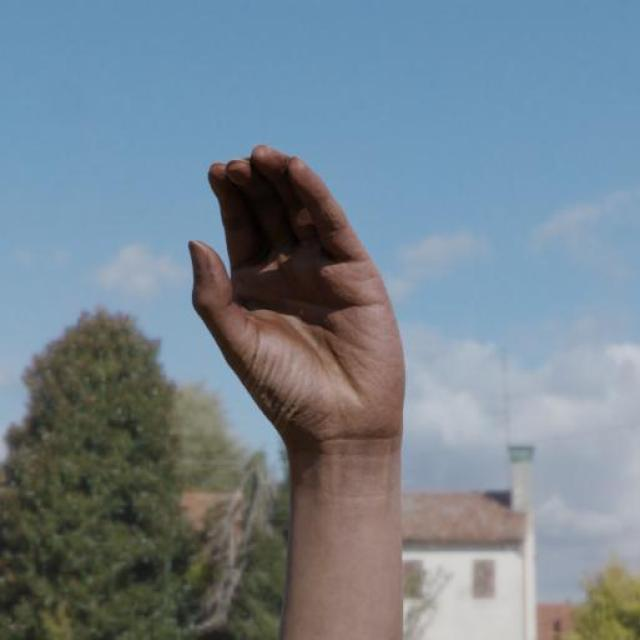C: (182, 140, 411, 479)
